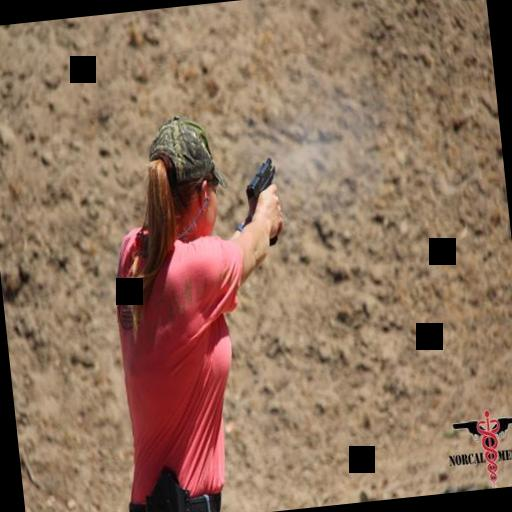Handgun: (240, 152, 284, 250)
